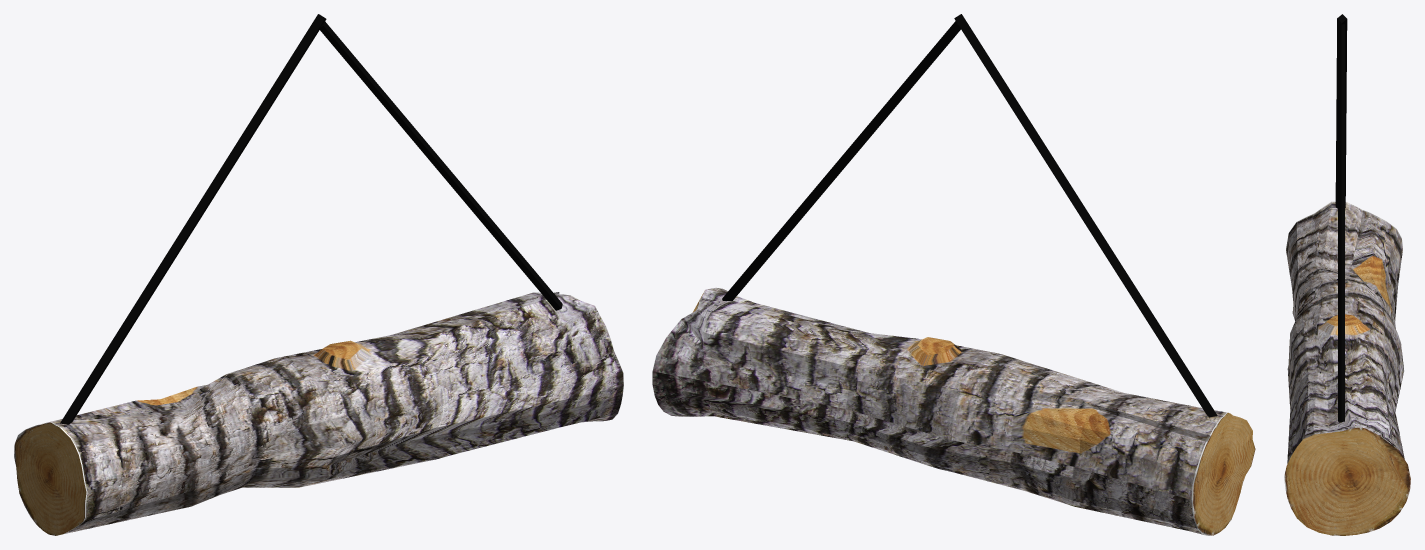
Rendered from HangingTree.fbx.
3 renders of one model, left to right at view 1: azimuth 30°, elevation 25°; view 2: azimuth 150°, elevation 25°; view 3: azimuth 270°, elevation 25°, orthographic. The views are drawn at different scales.
Parts seen in each view (by area): view 1: Cylinder, Cylinder.001, Cylinder.002; view 2: Cylinder, Cylinder.001, Cylinder.002; view 3: Cylinder, Cylinder.002, Cylinder.001.
Boxes of the visible parts, <box> form: Cylinder: <box>14,292,623,535</box>; Cylinder.001: <box>60,14,326,424</box>; Cylinder.002: <box>319,21,562,310</box>; Cylinder: <box>652,287,1255,535</box>; Cylinder.001: <box>954,14,1217,417</box>; Cylinder.002: <box>722,21,960,300</box>; Cylinder: <box>1284,201,1410,535</box>; Cylinder.002: <box>1338,23,1344,422</box>; Cylinder.001: <box>1335,14,1347,208</box>.
Bounding box in the file's own units: 200 × 164 × 46.44.
